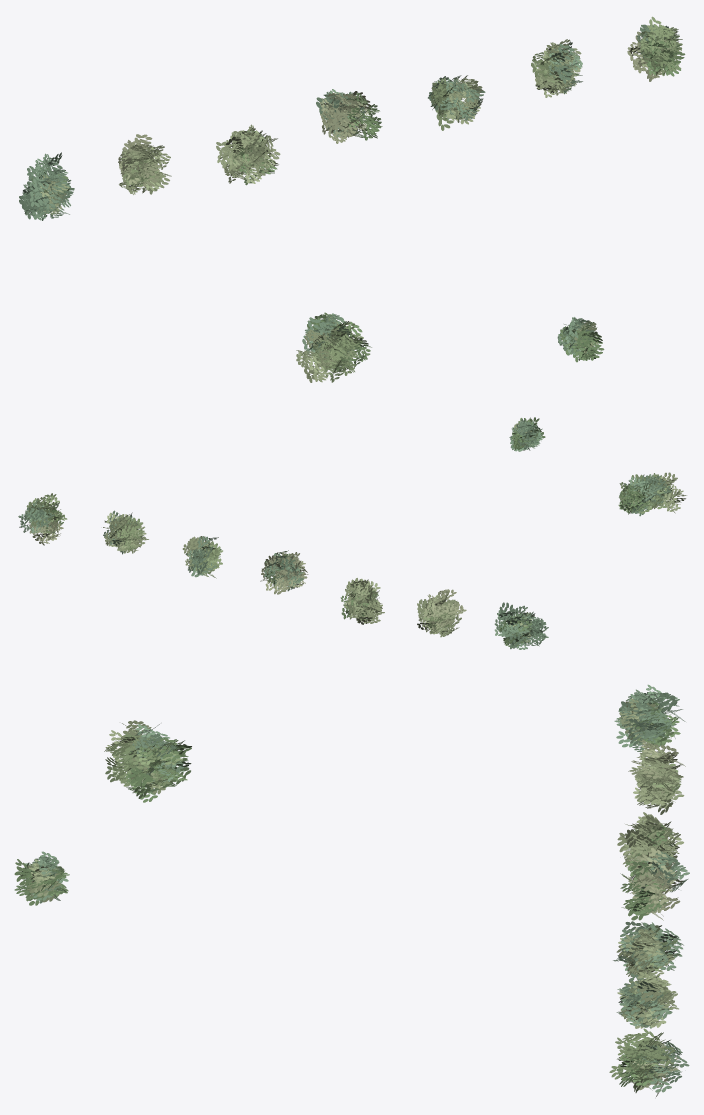
The model's file is campus-tree--3_-4-far.glb.
3 views of the same model, one above another, from view 1: azimuth 30°, elevation 25°; view 2: azimuth 150°, elevation 25°; view 3: azimuth 270°, elevation 25° (orthographic). The views are drawn at different scales.
Visible parts, largest first — view 1: Campus leaf canopy; view 2: Campus leaf canopy; view 3: Campus leaf canopy.
Boxes of the visible parts, x1,y1,x2,y2 form: Campus leaf canopy: (19, 16, 685, 382); Campus leaf canopy: (18, 417, 686, 649); Campus leaf canopy: (14, 684, 689, 1096).
Size of the model in its own units: 73.16 by 8.24 by 57.11.
Materials: 1 (1 with a texture image).
